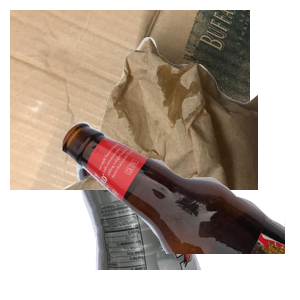cardboard: (10, 10, 250, 190)
glass: (60, 120, 300, 300)
plastic: (71, 120, 265, 300)
trash: (60, 35, 300, 215)
